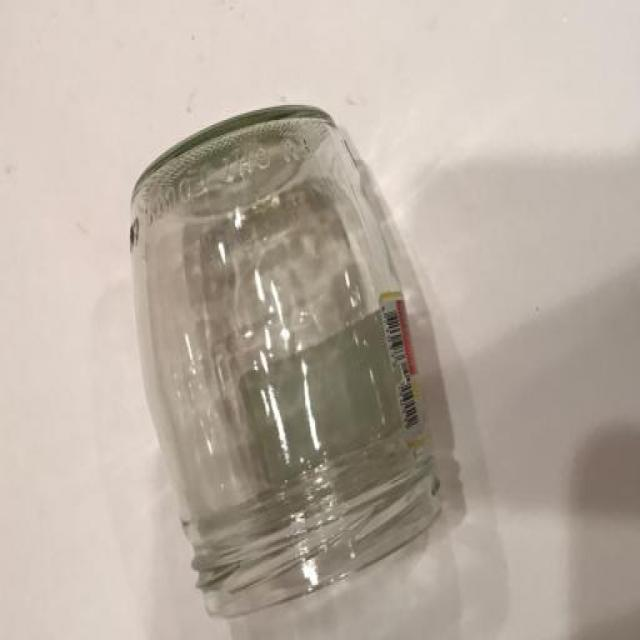Waste: (130, 105, 501, 638)
